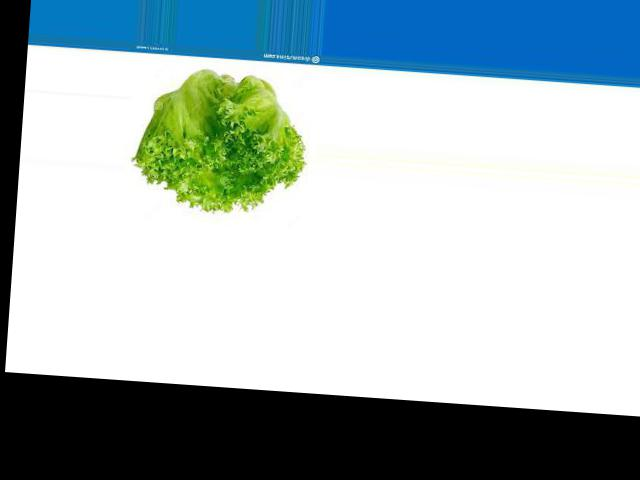lettuce: (143, 64, 303, 213)
